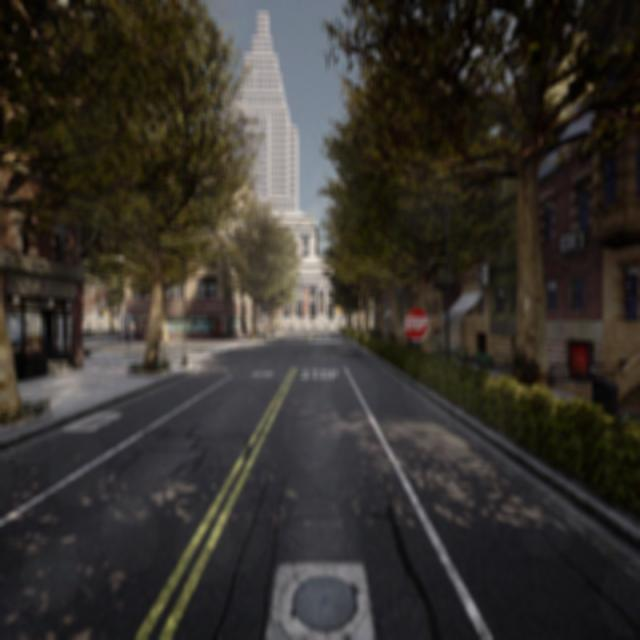stop sign: (400, 302, 432, 344), (403, 313, 428, 332)
